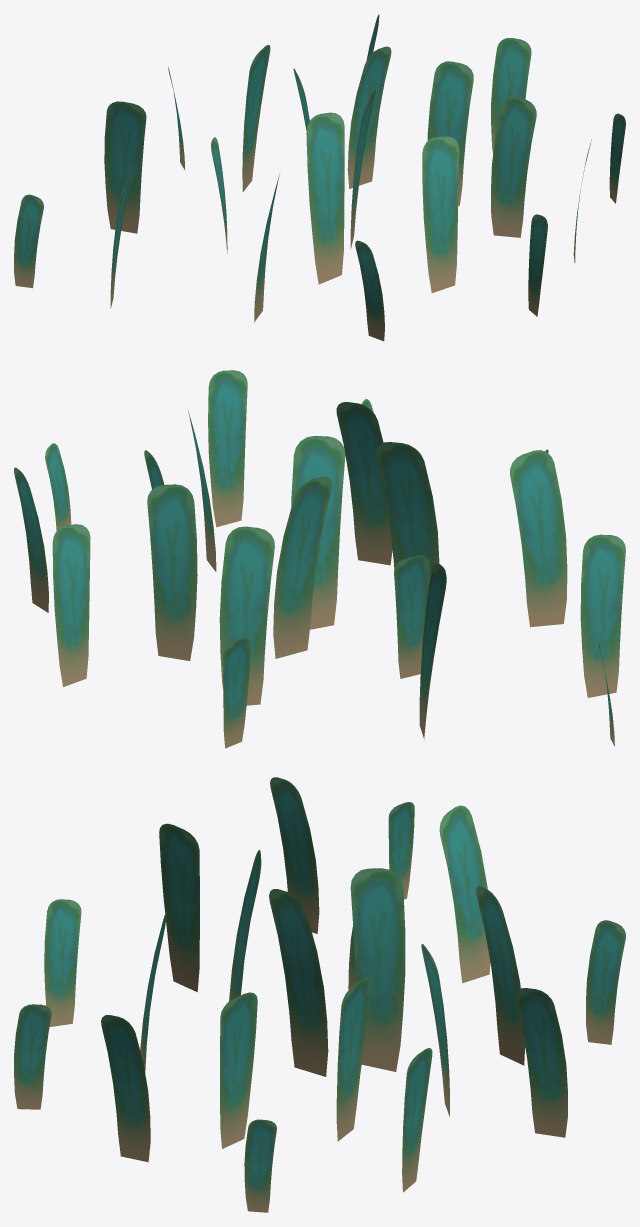
File: Plants.fbx
3 views of the same model, one above another, from view 1: azimuth 30°, elevation 25°; view 2: azimuth 150°, elevation 25°; view 3: azimuth 270°, elevation 25° (orthographic). The views are drawn at different scales.
Parts seen in each view (by area): view 1: Plants; view 2: Plants; view 3: Plants.
Part boxes in pixels (left/top/right/bottom): Plants: left=14, top=14, right=625, bottom=341; Plants: left=14, top=370, right=625, bottom=748; Plants: left=14, top=777, right=625, bottom=1212.
Size of the model in its own units: 634 by 174 by 513.
1 material, 1 textured.
